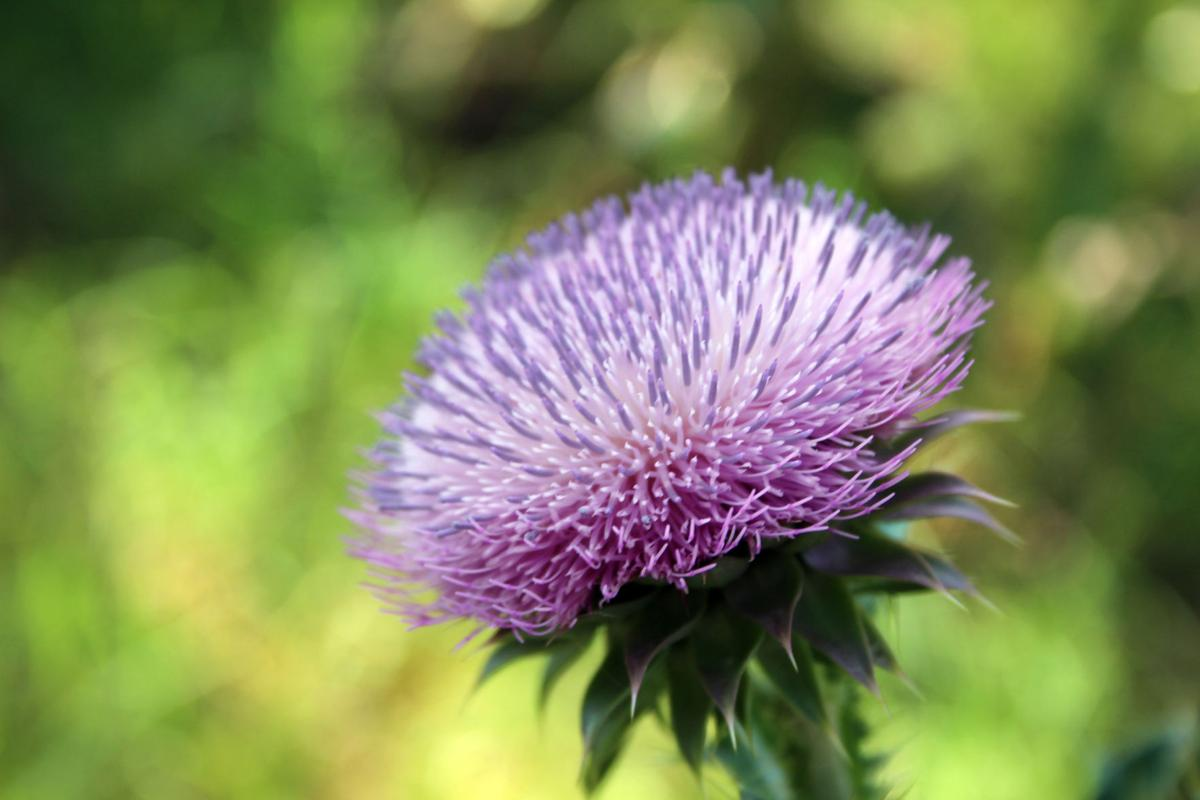thistle: (374, 164, 1006, 731)
